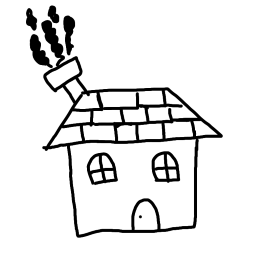closed_window: (84, 148, 120, 188), (150, 149, 185, 187)
door: (128, 194, 164, 238)
roof: (28, 85, 225, 152)
smoking_chimney: (20, 1, 94, 104)
wall: (63, 133, 207, 240)
